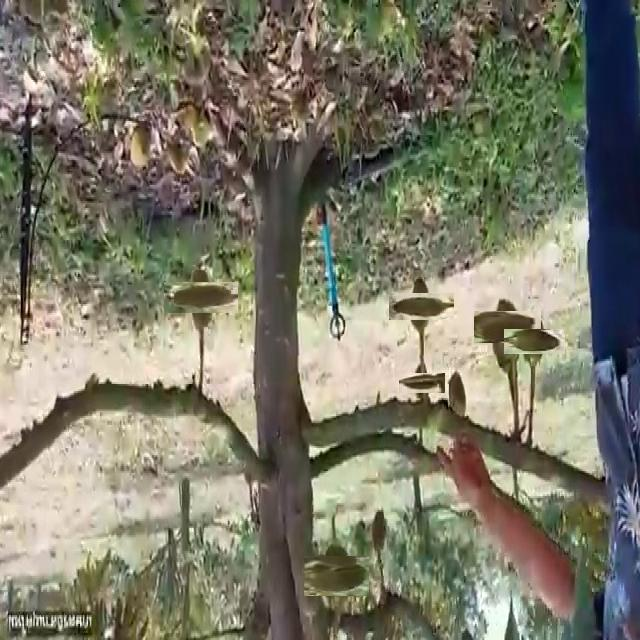durian: (174, 271, 228, 324), (311, 549, 363, 602), (482, 302, 532, 352), (398, 283, 444, 330), (513, 320, 556, 363), (444, 367, 470, 426), (405, 366, 438, 400), (369, 506, 390, 556)
